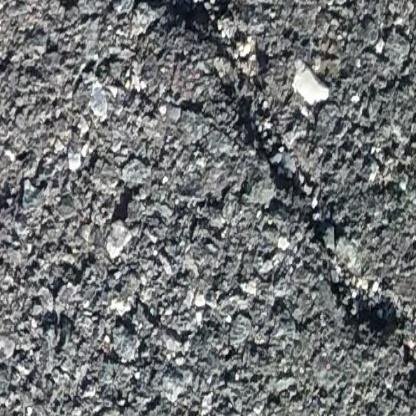Cracks: (222, 72, 403, 328), (95, 0, 238, 59)
